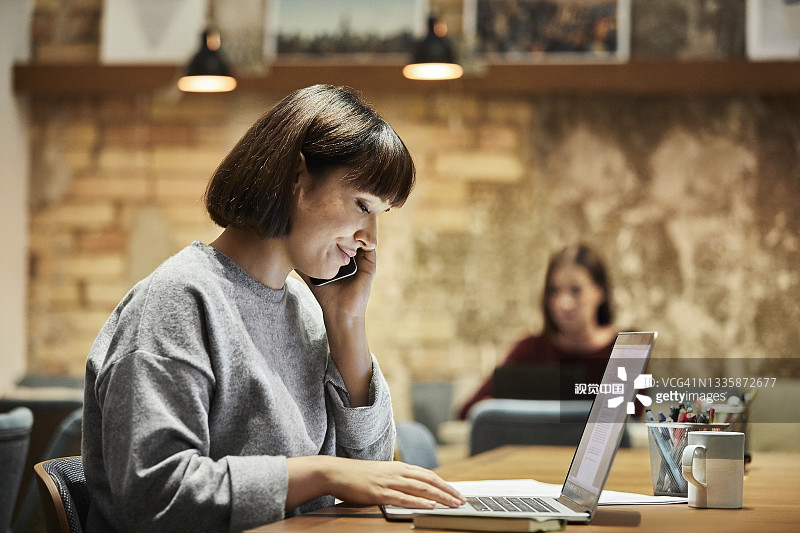calling: (281, 217, 405, 349)
no-phone: (285, 439, 463, 517)
